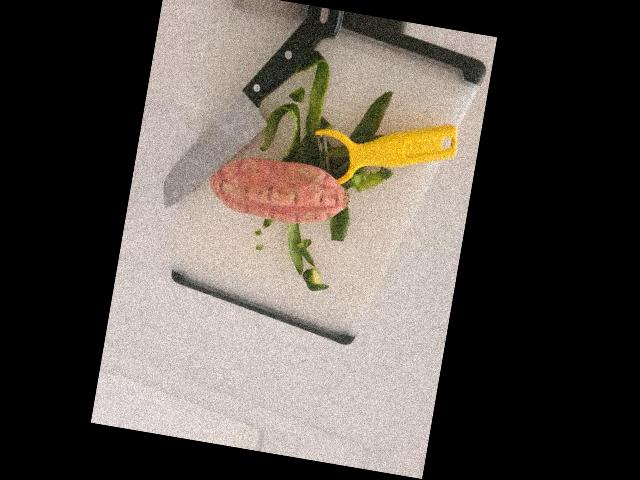sweet_potato: (207, 148, 358, 233)
